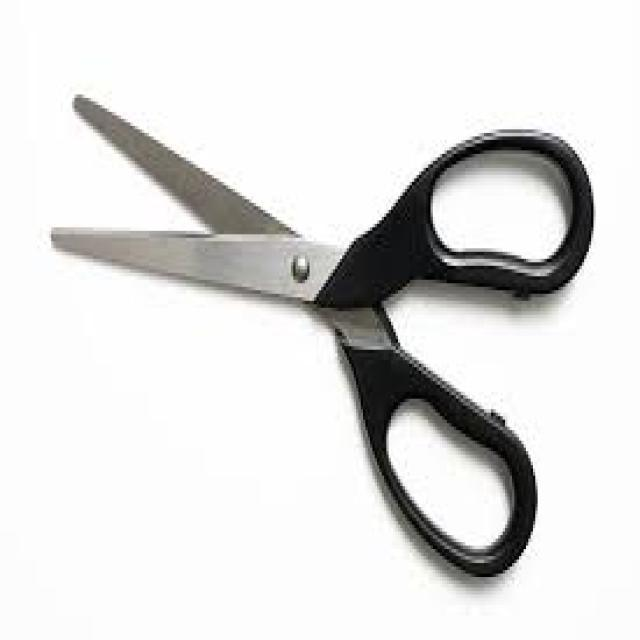Scissors: (46, 52, 618, 598)
